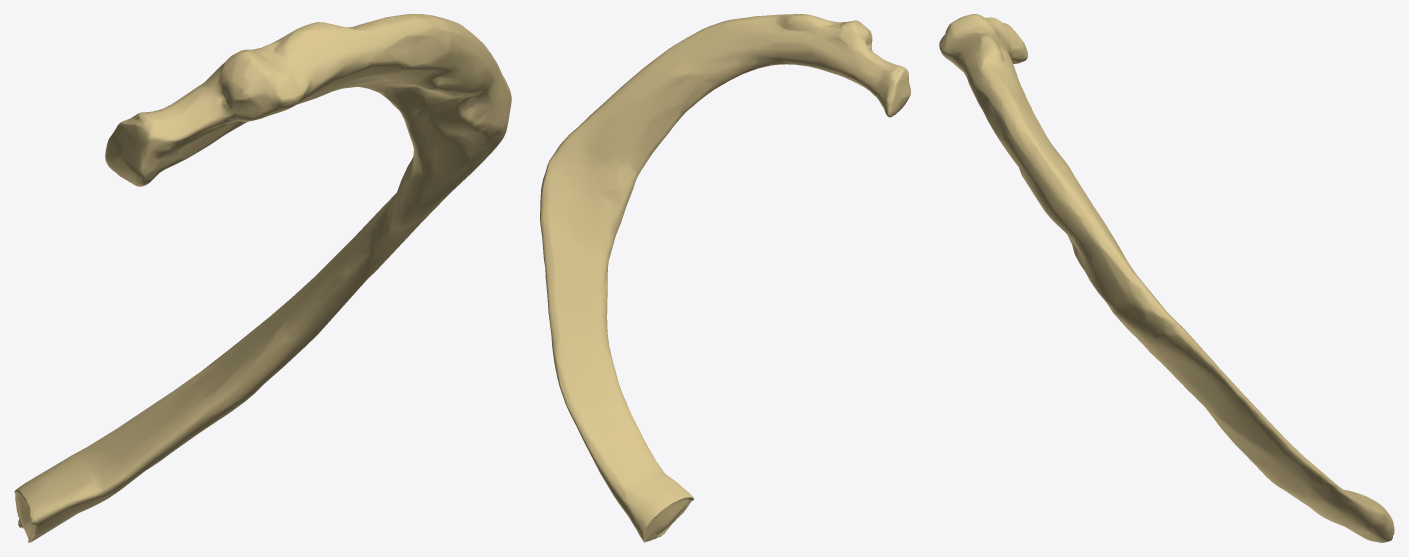
3 views of the same model, side by side, from view 1: azimuth 30°, elevation 25°; view 2: azimuth 150°, elevation 25°; view 3: azimuth 270°, elevation 25° (orthographic). The views are drawn at different scales.
Parts seen in each view (by area): view 1: 左侧第二肋; view 2: 左侧第二肋; view 3: 左侧第二肋.
Boxes of the visible parts, x1=… form: 左侧第二肋: x1=14, y1=14, x2=511, y2=542; 左侧第二肋: x1=540, y1=14, x2=910, y2=542; 左侧第二肋: x1=939, y1=14, x2=1394, y2=542.
Size of the model in its own units: 0.121 by 0.165 by 0.1345.
